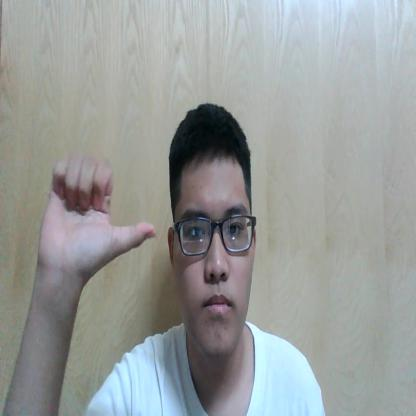left: (38, 152, 156, 272)
